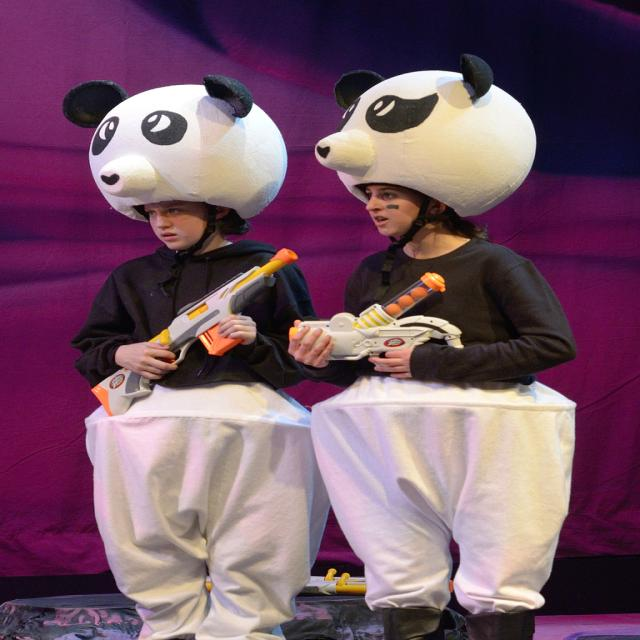panda: (312, 53, 537, 215), (57, 67, 293, 219)
